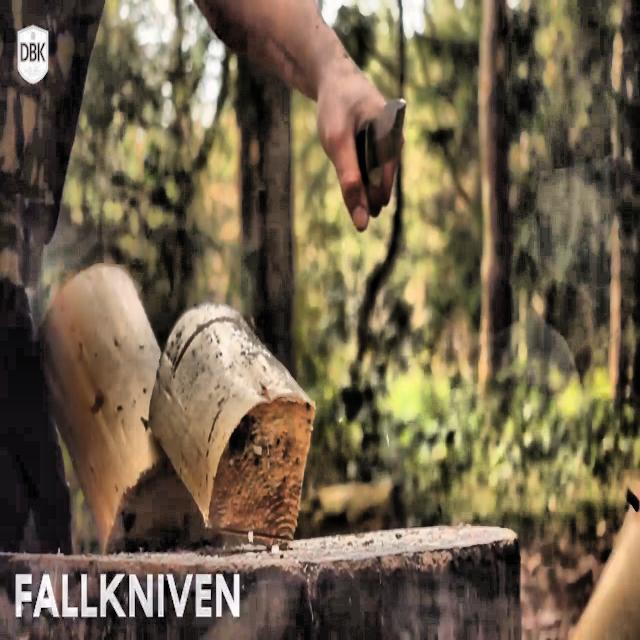knife: (356, 98, 407, 192)
